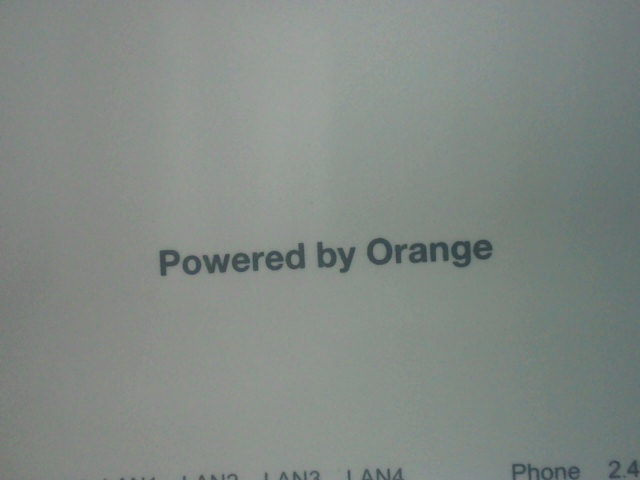AS_PowerByOrange: (138, 232, 504, 283)
